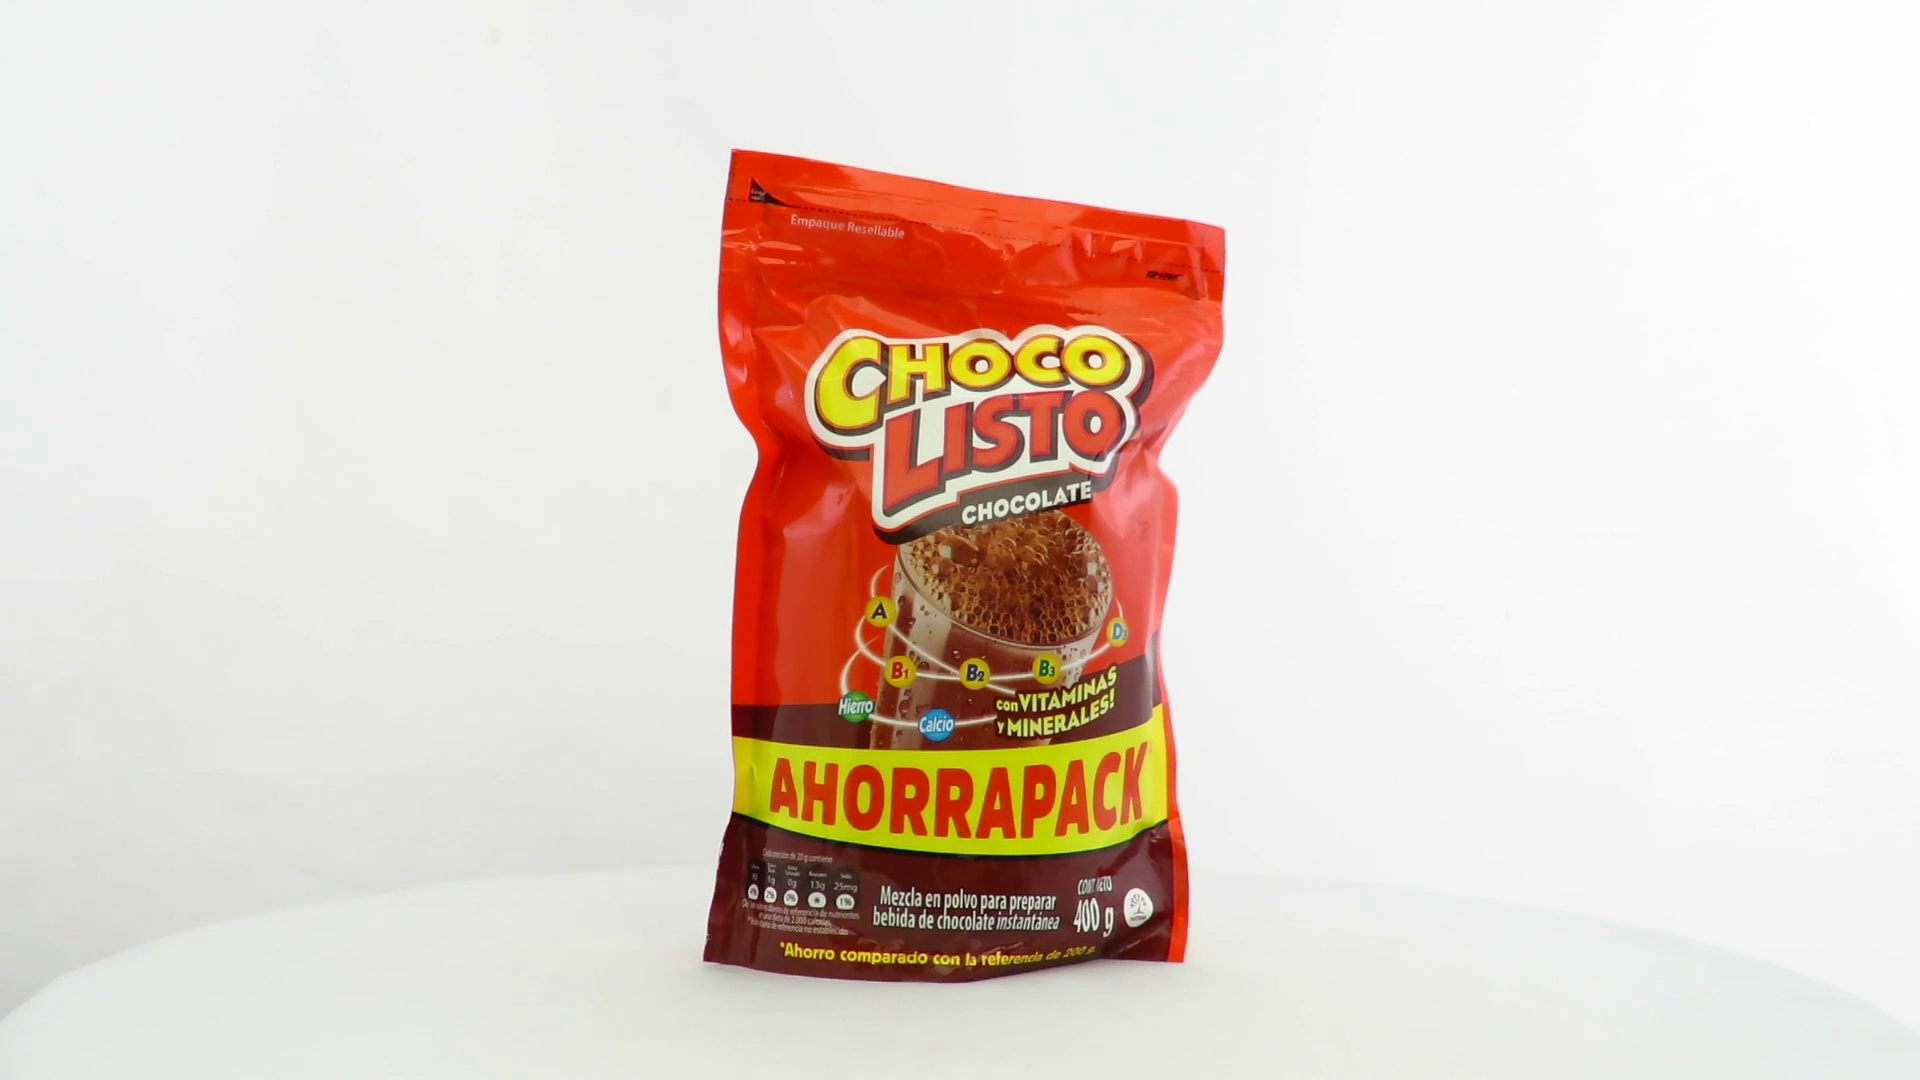COL0170103DYP40000: (698, 142, 1232, 990)
